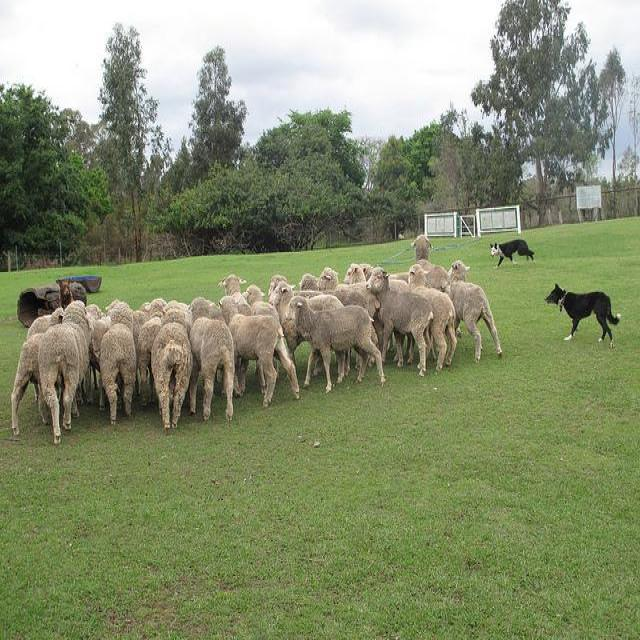Sheep: (55, 232, 450, 421), (284, 294, 387, 394), (218, 297, 300, 408), (38, 299, 92, 445), (366, 263, 435, 377), (218, 273, 280, 396), (9, 308, 65, 441), (269, 281, 344, 368), (182, 296, 234, 421), (150, 301, 194, 435), (447, 262, 502, 362), (408, 262, 457, 374), (98, 297, 139, 428)
